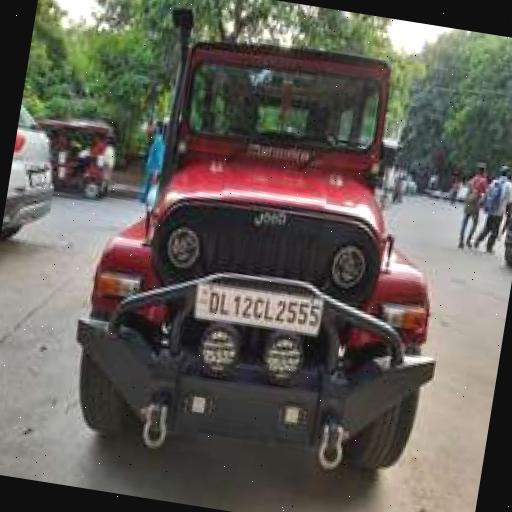license_plate`: (190, 277, 322, 334)
